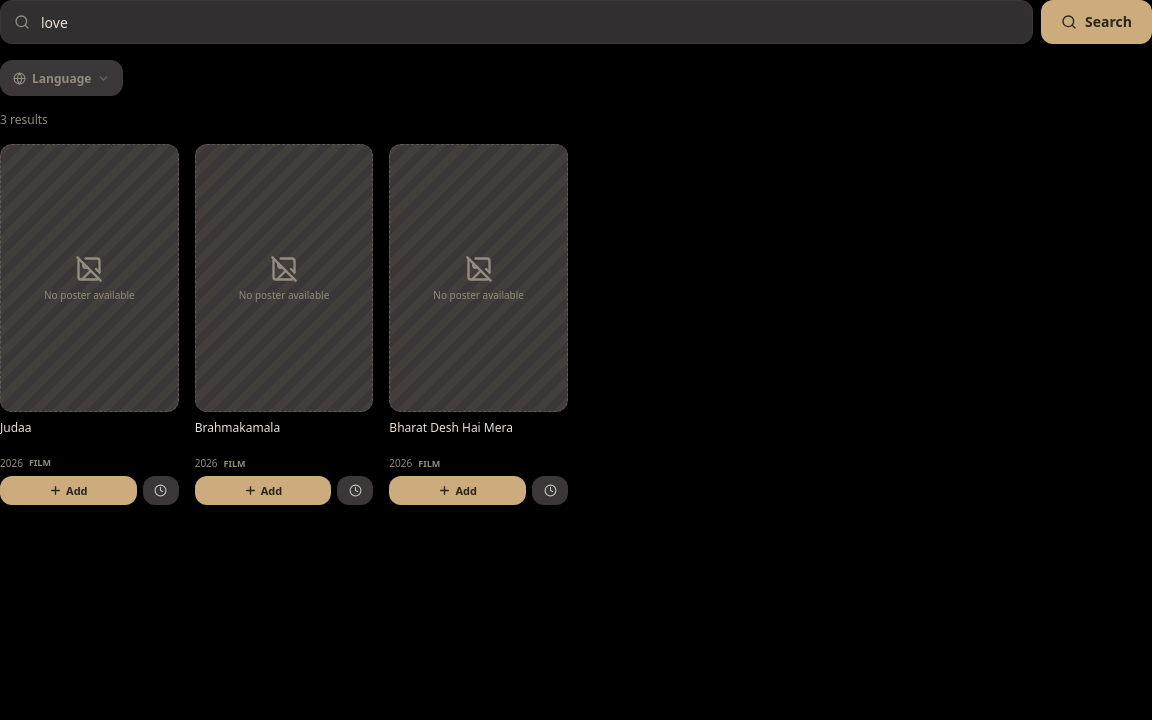
Test case: Search language filter › shows full language names once results load, and offers them as filter options
The image size is (1152, 720).
Check: the heading "Judaa" is shown, box [0, 419, 32, 436]
Step 1. Click the button "Language" → coordinates (62, 78), box [1, 61, 122, 95]
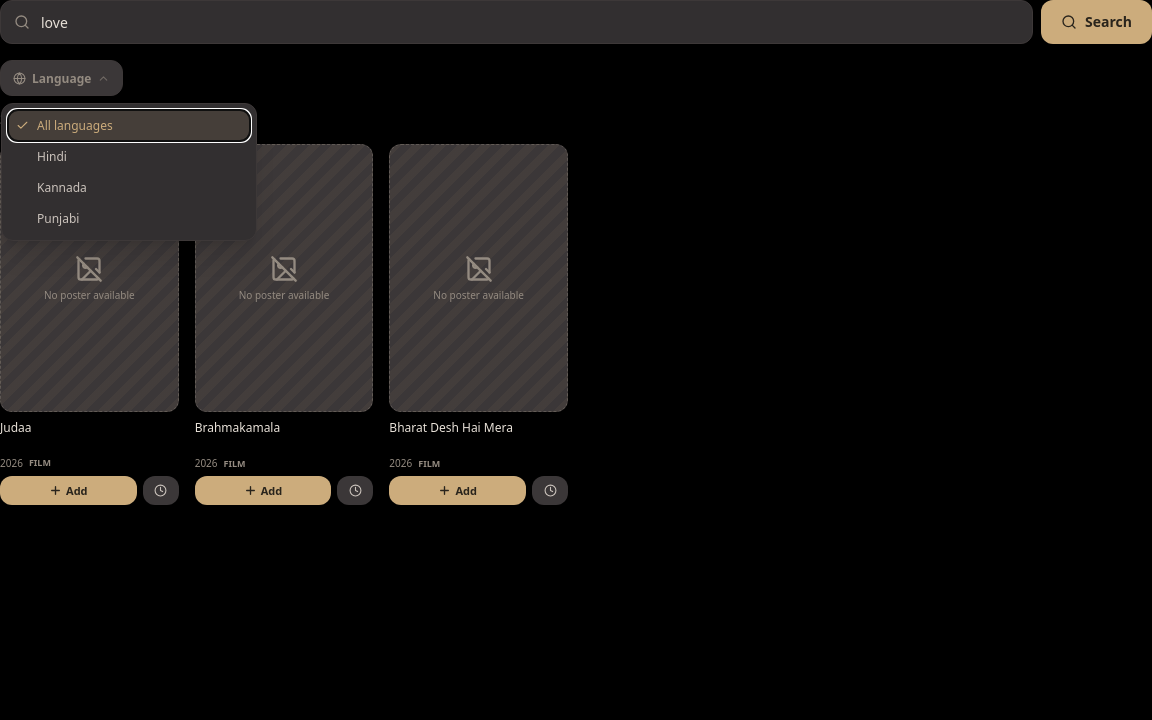
Check: the text "Punjabi" is shown, box [37, 211, 79, 226]
Check: the text "Kannada" is shown, box [37, 180, 87, 195]
Check: the text "Hindi" is shown, box [37, 149, 67, 164]
